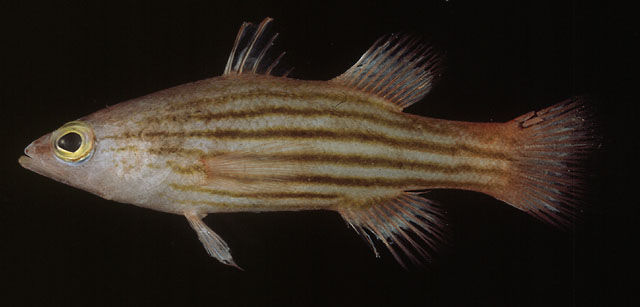fish: (18, 17, 595, 270)
